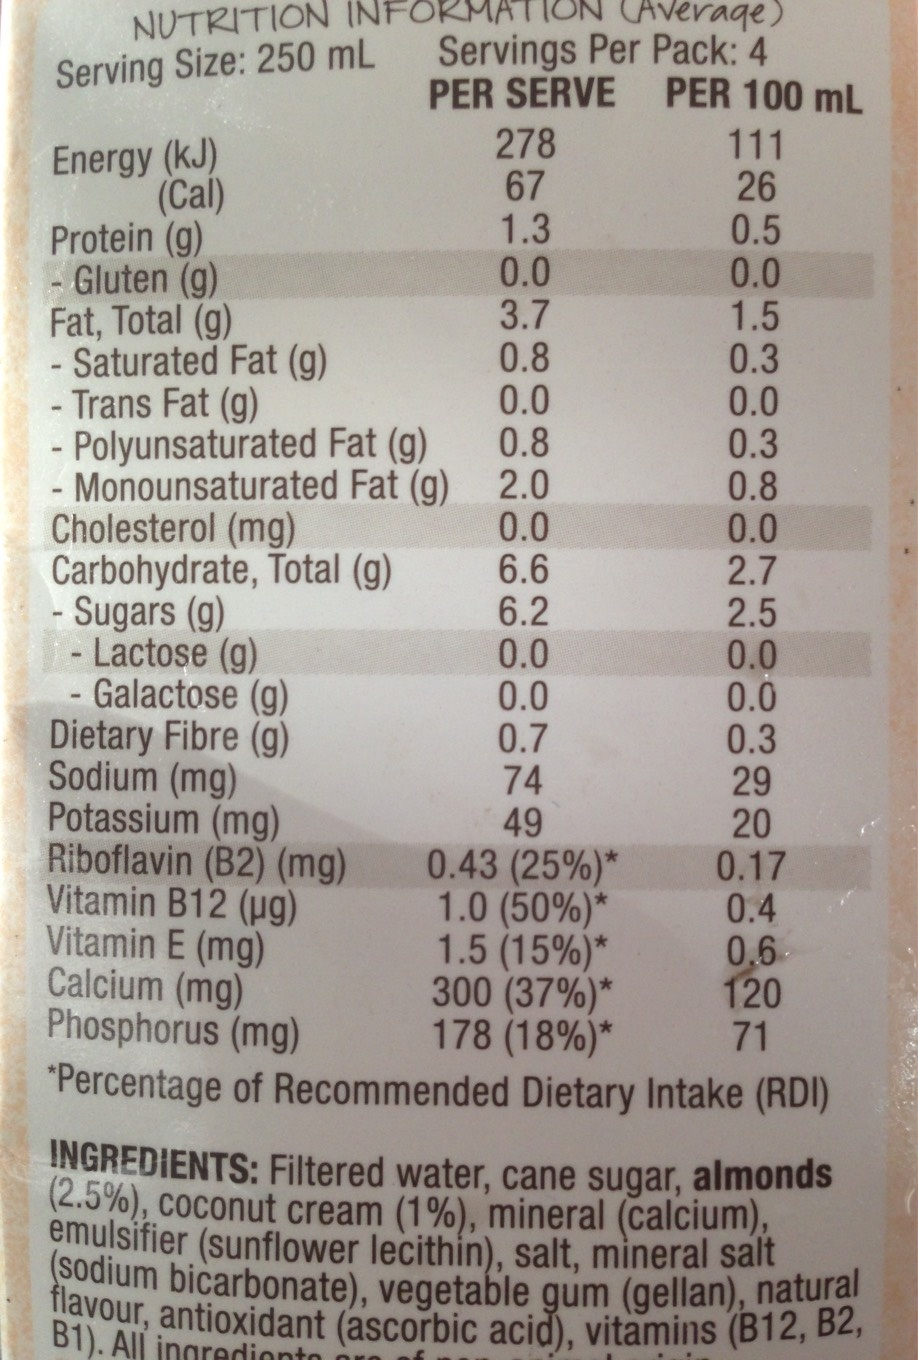column: (45, 134, 418, 1060), (659, 70, 870, 1058), (426, 70, 618, 1060)
table: (31, 1, 895, 1068)
